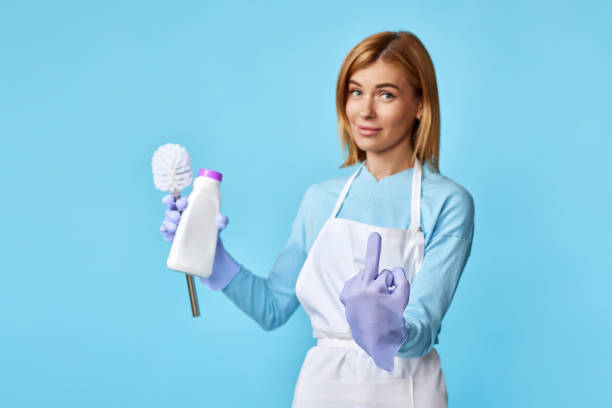insulting_gesture: (338, 229, 408, 355)
